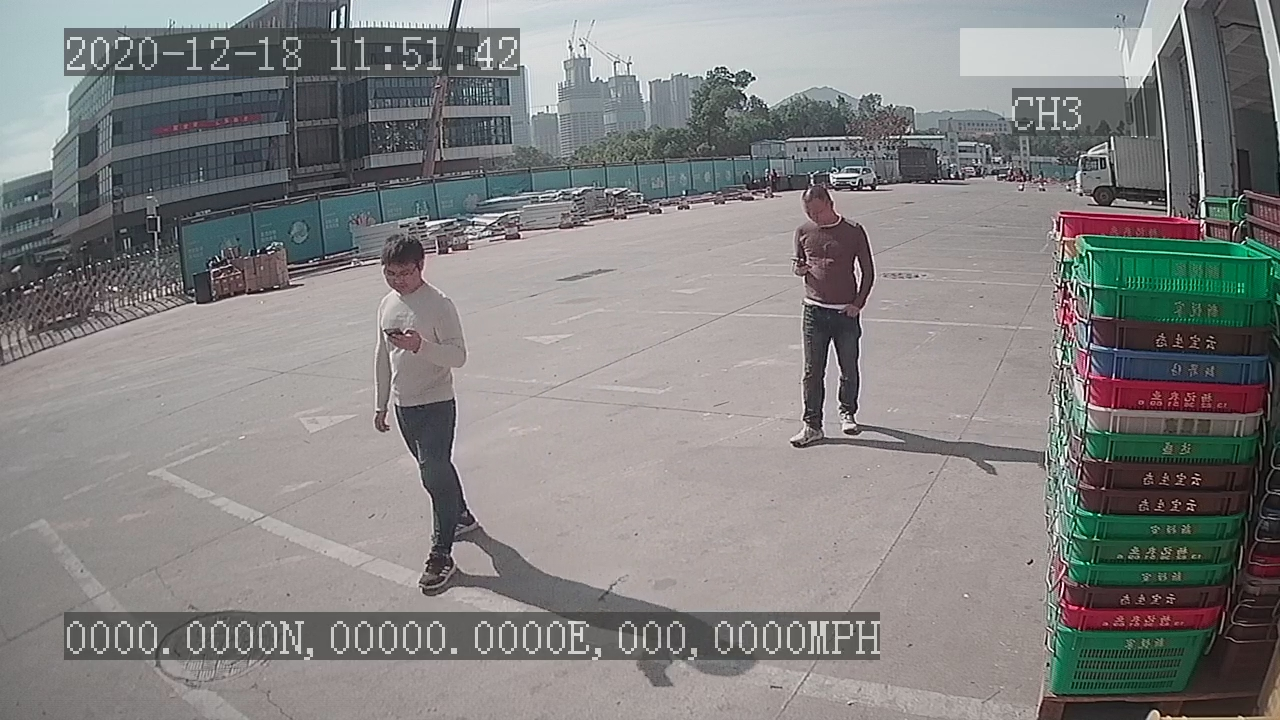person: (365, 226, 484, 602), (777, 177, 881, 452)
